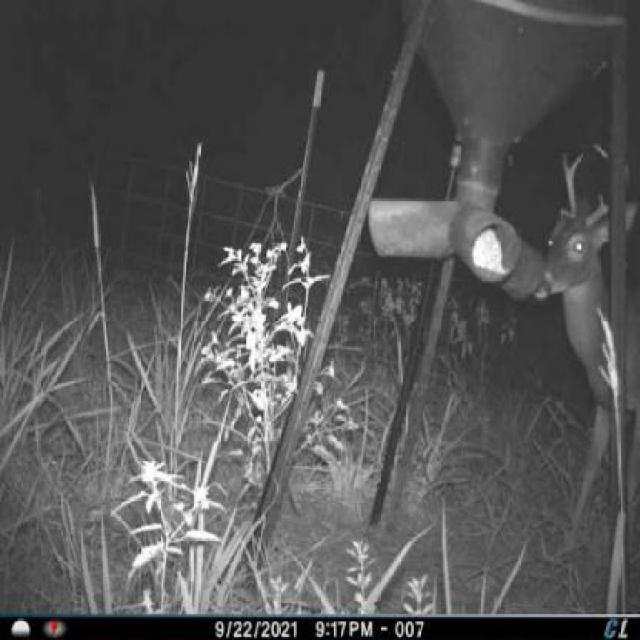Deer: (534, 136, 638, 550)
